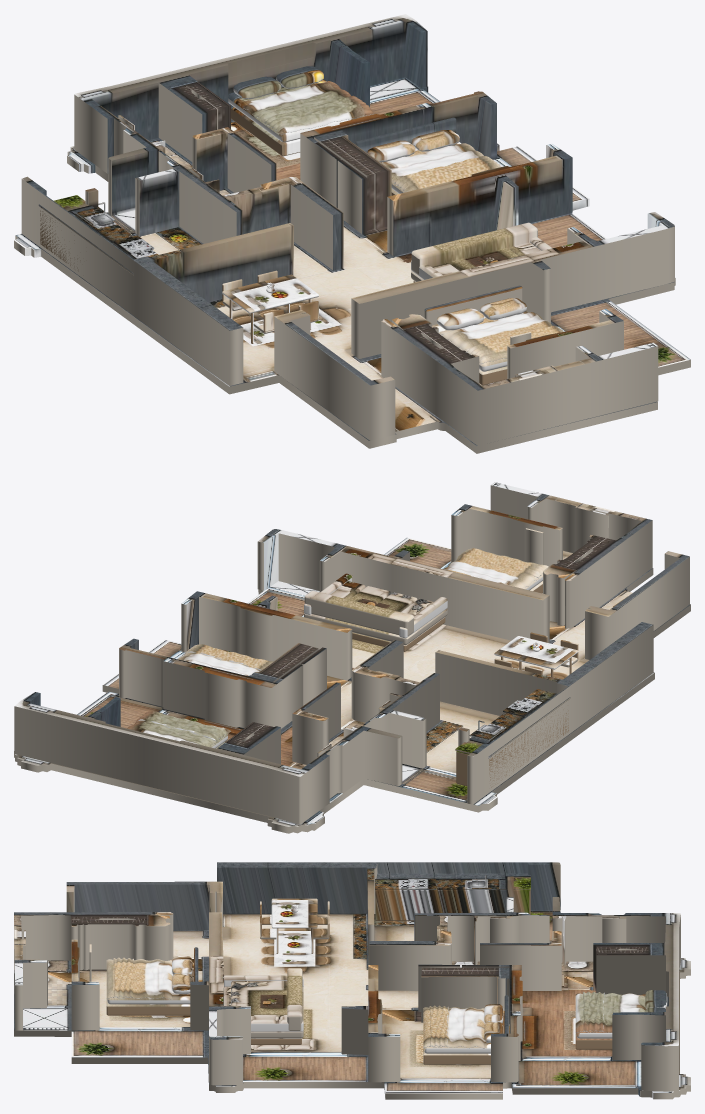
Rendered from p2-04-u05-2110-image-model.glb.
3 renders of one model, top to bottom at view 1: azimuth 30°, elevation 25°; view 2: azimuth 150°, elevation 25°; view 3: azimuth 270°, elevation 25°, orthographic. The views are drawn at different scales.
Visible parts, largest first — view 1: Partition walls, Apartment floor, Draped bed linen.004, Sofa back, Draped bed linen.002, Draped bed linen, Marble dining top, Stone worktop, Draped bed linen.005, Upholstered headboard, Draped bed linen.003, Upholstered headboard.001 (+10 smaller); view 2: Partition walls, Apartment floor, Sofa back, Marble dining top, Draped bed linen, Stone worktop, Kitchen cabinets, Draped bed linen.004, Upholstered sofa frame, Draped bed linen.005, Draped bed linen.001, Draped bed linen.002 (+3 smaller); view 3: Partition walls, Apartment floor, Kitchen cabinets, Stone worktop, Draped bed linen, Draped bed linen.002, Marble dining top, Draped bed linen.004, Walnut upholstered base, Sofa back, Walnut upholstered base.001, Draped bed linen.005 (+13 smaller).
Boxes of the visible parts, left/top/right/bottom form: Partition walls: left=21, top=14, right=674, bottom=445; Apartment floor: left=14, top=77, right=690, bottom=453; Draped bed linen.004: left=238, top=81, right=373, bottom=134; Sofa back: left=411, top=222, right=537, bottom=274; Draped bed linen.002: left=382, top=143, right=500, bottom=192; Draped bed linen: left=441, top=312, right=552, bottom=363; Marble dining top: left=222, top=274, right=318, bottom=313; Stone worktop: left=38, top=195, right=158, bottom=275; Draped bed linen.005: left=263, top=95, right=369, bottom=130; Upholstered headboard: left=424, top=285, right=522, bottom=325; Draped bed linen.003: left=393, top=156, right=500, bottom=190; Upholstered headboard.001: left=355, top=117, right=456, bottom=152; Partition walls: left=14, top=482, right=689, bottom=824; Apartment floor: left=14, top=537, right=690, bottom=833; Sofa back: left=304, top=591, right=413, bottom=635; Marble dining top: left=494, top=636, right=578, bottom=669; Draped bed linen: left=443, top=549, right=548, bottom=588; Stone worktop: left=455, top=689, right=570, bottom=758; Kitchen cabinets: left=456, top=709, right=568, bottom=787; Draped bed linen.004: left=127, top=711, right=230, bottom=746; Upholstered sofa frame: left=304, top=608, right=447, bottom=645; Draped bed linen.005: left=136, top=711, right=227, bottom=741; Draped bed linen.001: left=457, top=548, right=546, bottom=578; Draped bed linen.002: left=178, top=645, right=272, bottom=675; Partition walls: left=14, top=862, right=680, bottom=1091; Apartment floor: left=14, top=910, right=690, bottom=1099; Kitchen cabinets: left=375, top=890, right=530, bottom=921; Stone worktop: left=375, top=873, right=530, bottom=889; Draped bed linen: left=106, top=959, right=172, bottom=999; Draped bed linen.002: left=423, top=1007, right=484, bottom=1048; Marble dining top: left=271, top=898, right=317, bottom=928; Draped bed linen.004: left=575, top=993, right=645, bottom=1032; Walnut upholstered base: left=106, top=999, right=190, bottom=1015; Sofa back: left=287, top=968, right=302, bottom=1030; Walnut upholstered base.001: left=423, top=1048, right=490, bottom=1064; Draped bed linen.005: left=582, top=991, right=604, bottom=1031.
Size of the model in its own units: 10.27 by 1.3 by 15.41.
Materials: 13 (3 with a texture image).
